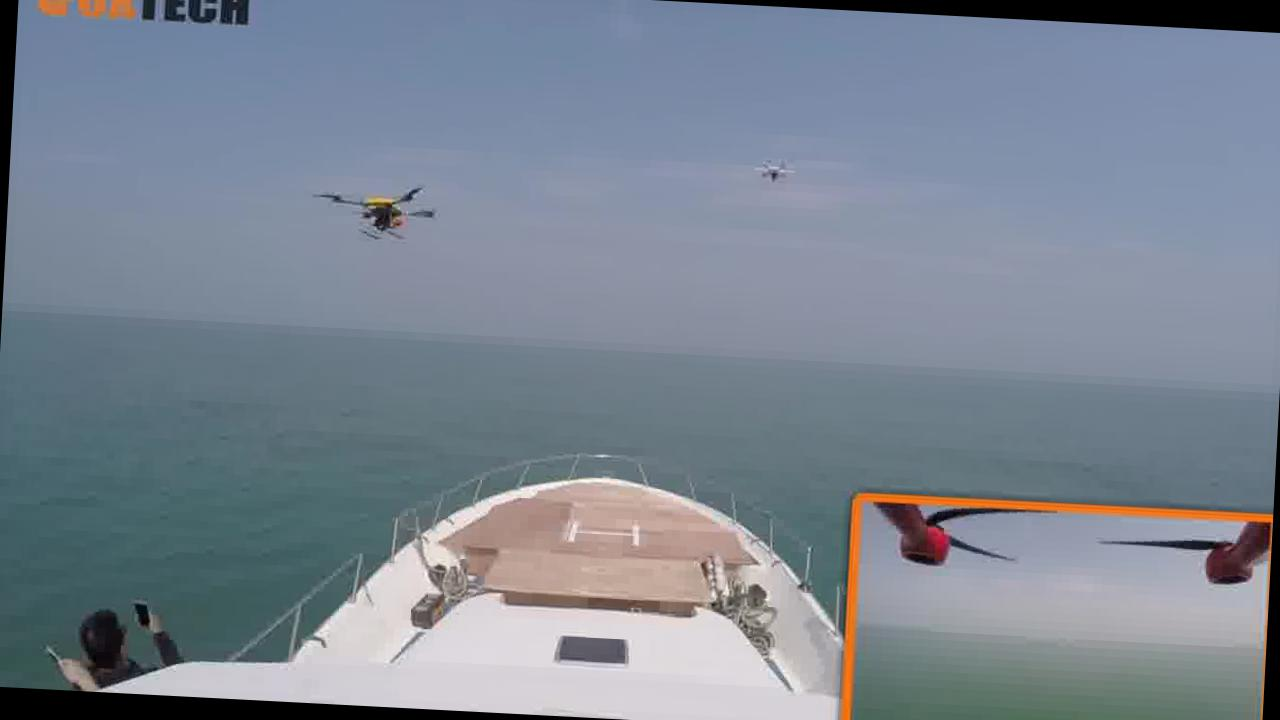drone: (288, 163, 444, 274), (695, 143, 815, 194)
